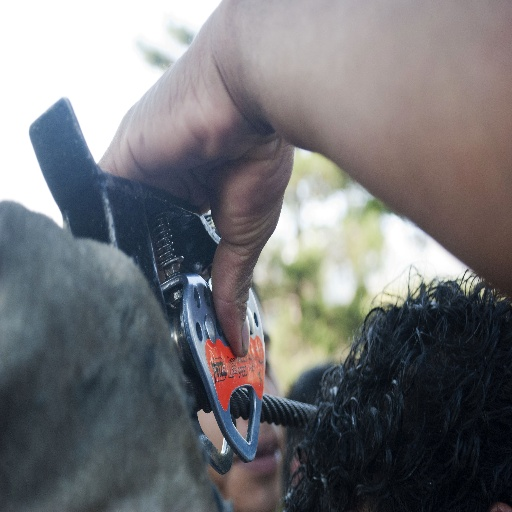hand: (97, 23, 297, 353)
